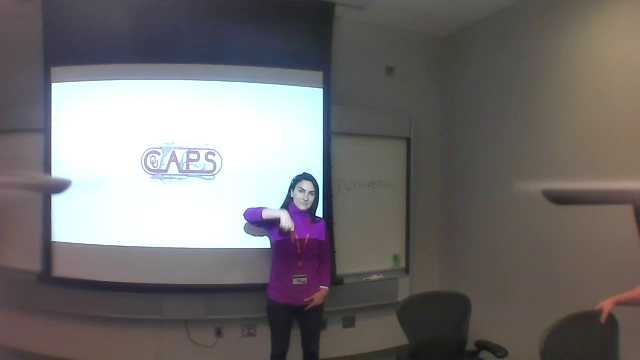down: (278, 206, 298, 248)
